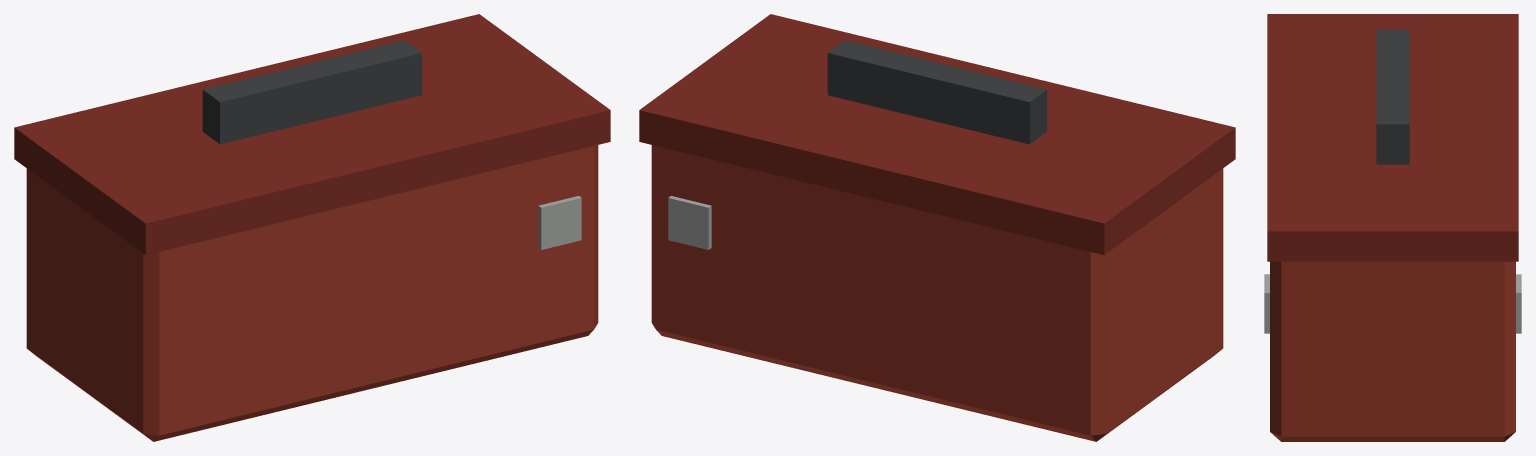
Rendered from toolbox.glb.
3 views of the same model, side by side, from view 1: azimuth 30°, elevation 25°; view 2: azimuth 150°, elevation 25°; view 3: azimuth 270°, elevation 25° (orthographic). The views are drawn at different scales.
Parts seen in each view (by area): view 1: Toolbox; view 2: Toolbox; view 3: Toolbox.
Part boxes in pixels (box(x1,y1,x2,y2)): Toolbox: box(14, 14, 610, 441); Toolbox: box(639, 14, 1235, 441); Toolbox: box(1264, 14, 1521, 441).
Bounding box in the file's own units: 0.46 × 0.26 × 0.23.
